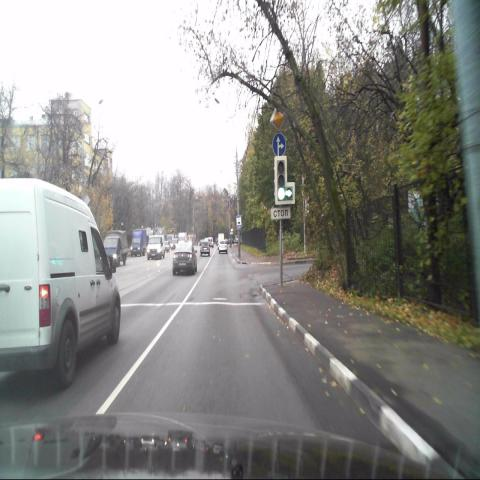2_1: (270, 106, 286, 132)
4_1_4: (272, 134, 285, 157)
